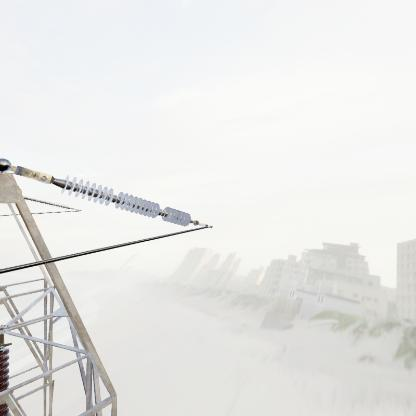insulator: (58, 171, 196, 227)
